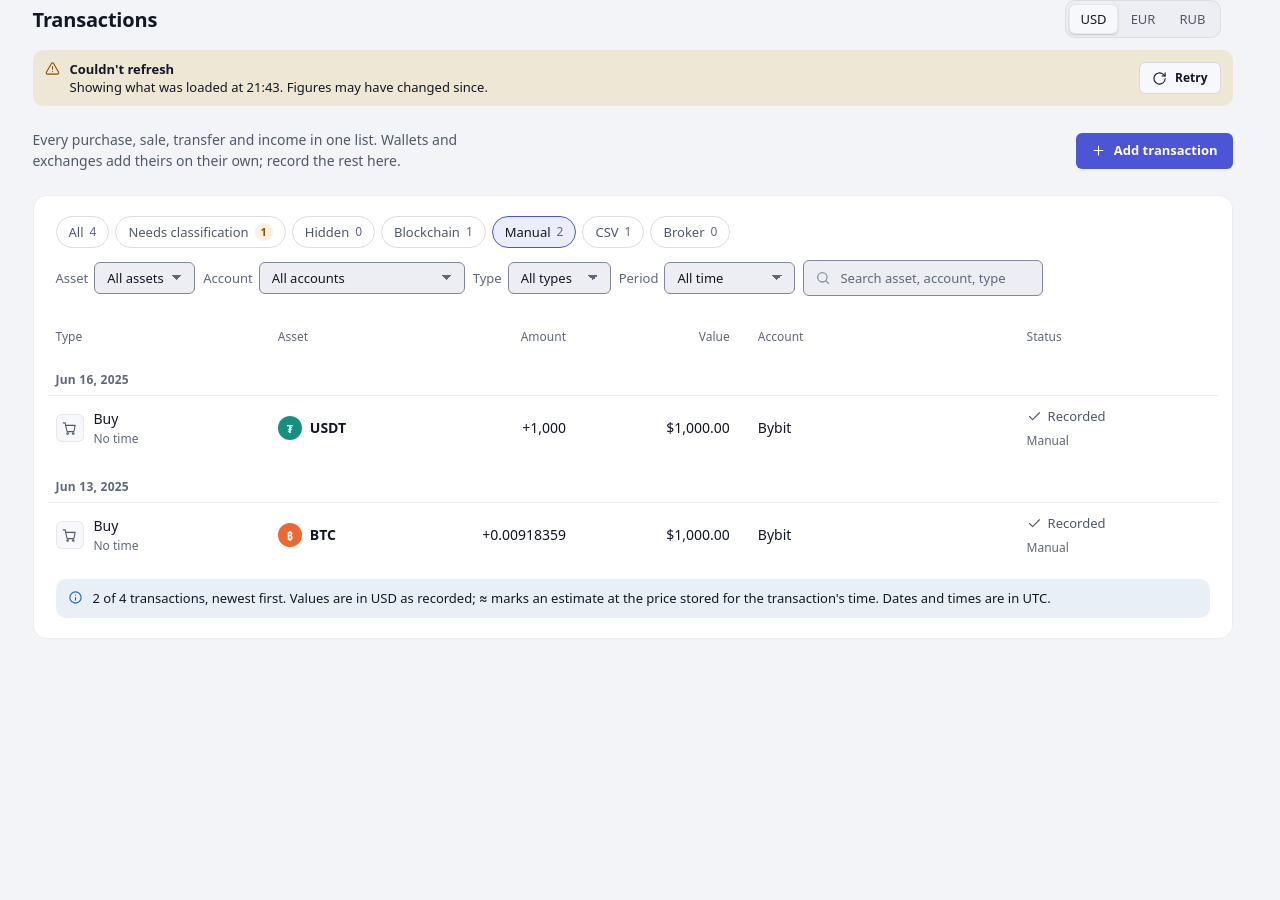
Test: TransactionsPage (list-all-operations) › OPS-CURRENCY: switches the list to EUR or RUB and keeps the filters
The width and height of the screenshot is (1280, 900).
Check: the radio button labelled "USD" is checked, box [1070,4,1118,34]
Step 1. Click the radio button labelled "RUB" → click(1192, 19), box [1180,10,1206,28]
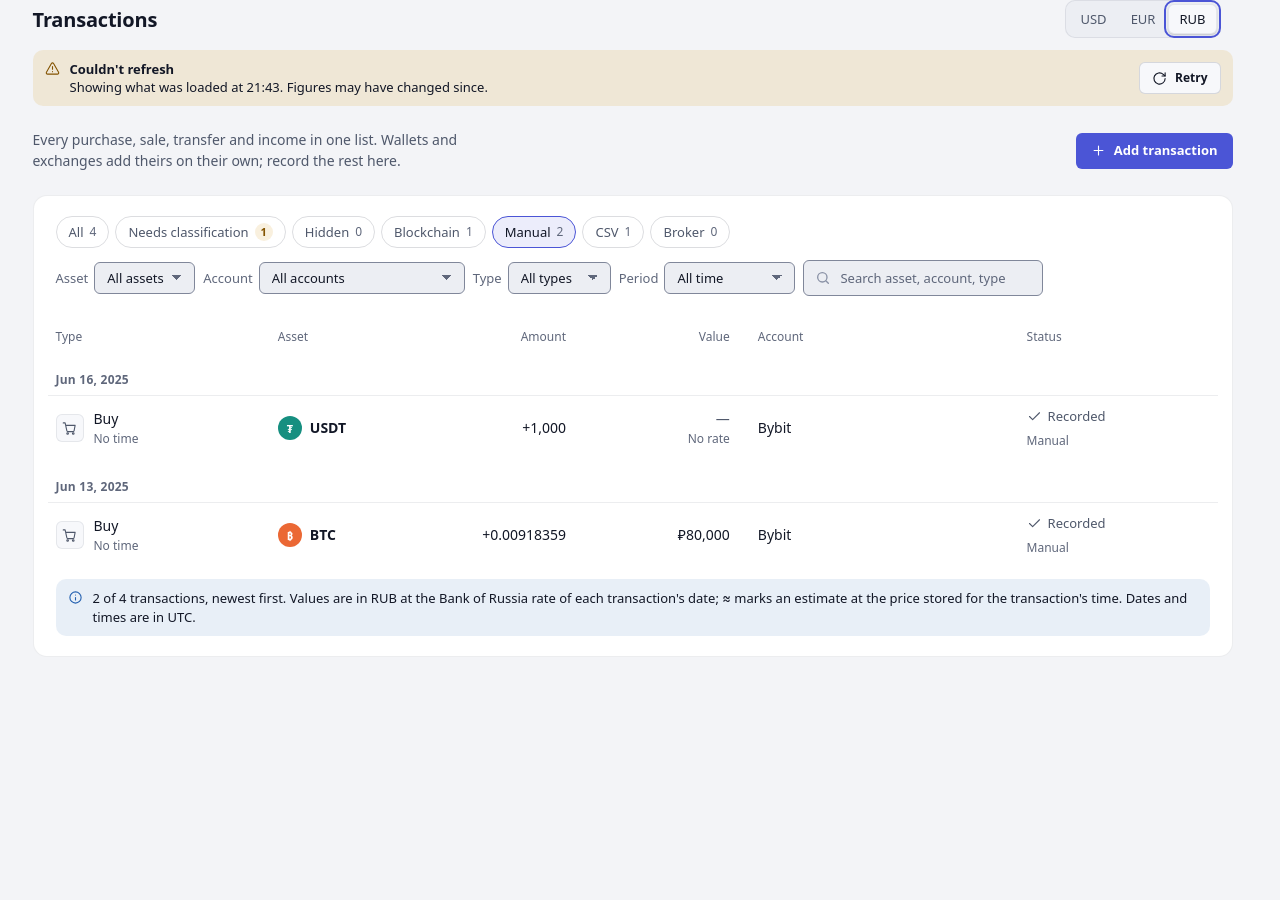
Check: the radio button labelled "RUB" is checked, box [1168,4,1216,34]
Step 2. Click the button "All 4" → click(82, 232), box [56,216,109,248]
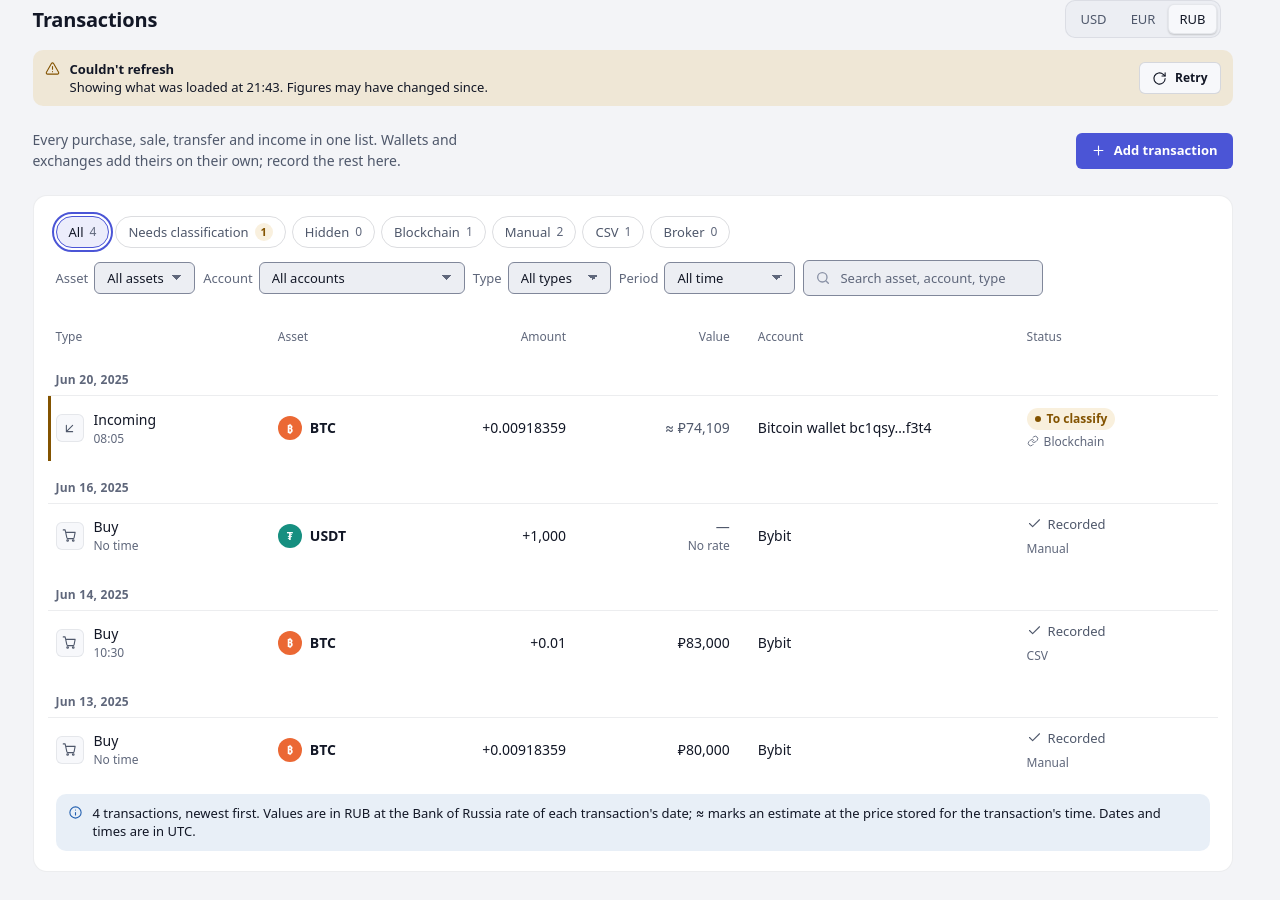
Step 3. Click the button "Buy" in the row of "+0.01" → click(106, 634), box [94,624,118,644]
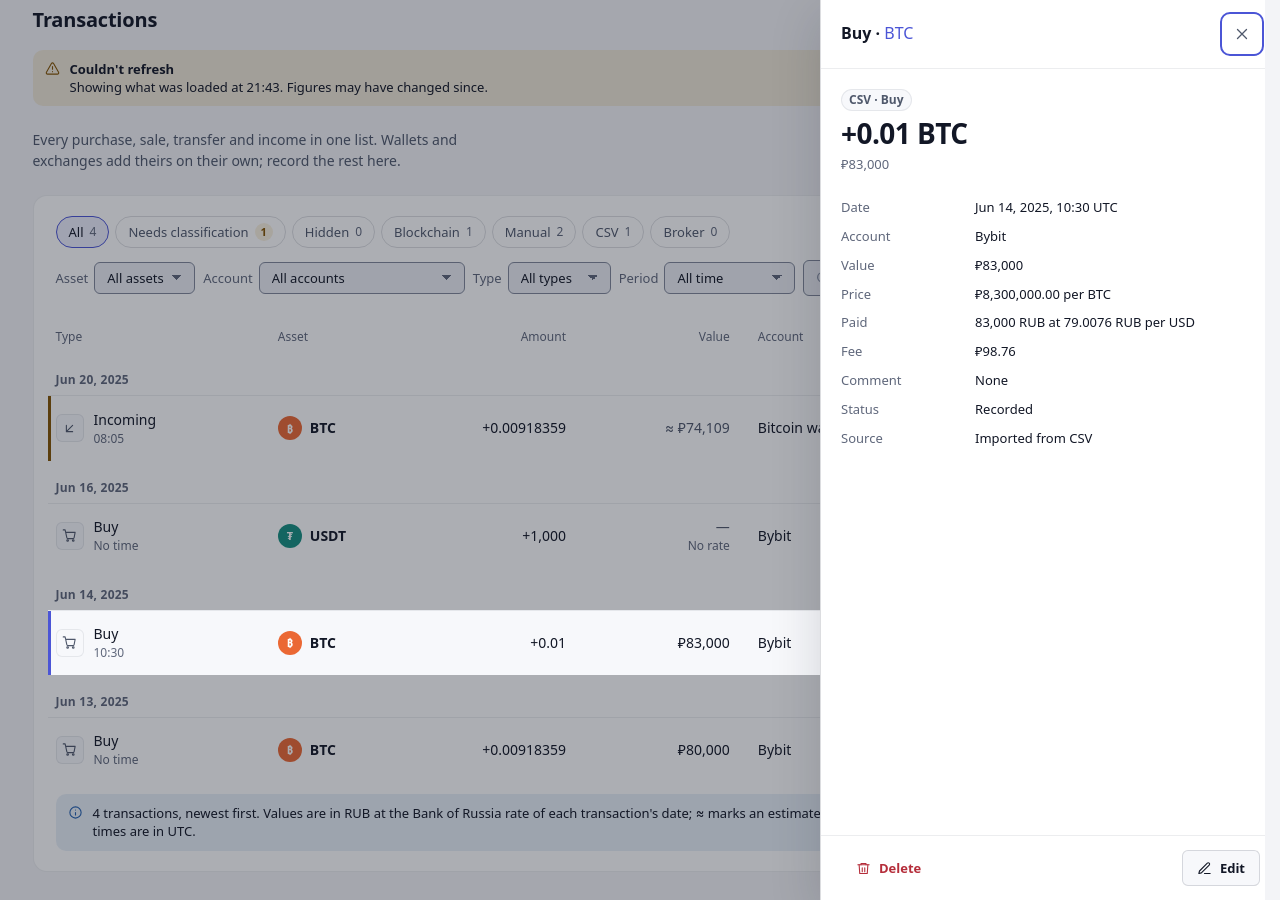
Check: the text "₽8,300,000.00 per BTC" is shown, box [975,285,1111,303]
